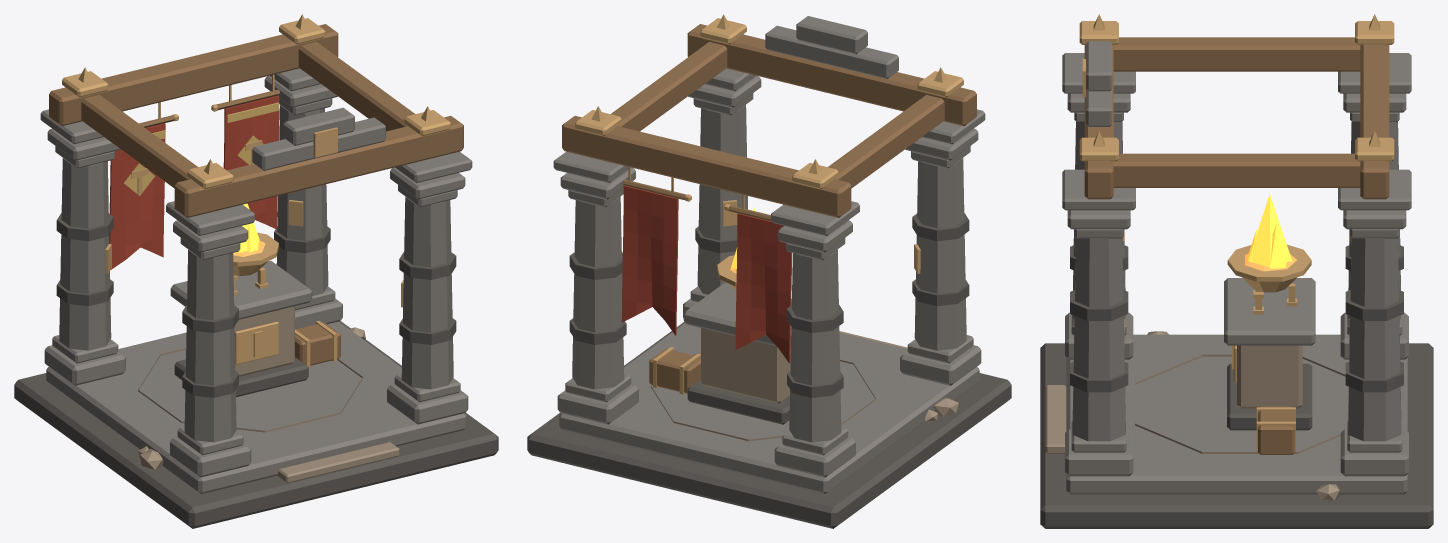
Rendered from temple.glb.
3 views of the same model, side by side, from view 1: azimuth 30°, elevation 25°; view 2: azimuth 150°, elevation 25°; view 3: azimuth 270°, elevation 25° (orthographic). The views are drawn at different scales.
Parts seen in each view (by area): view 1: platform_floor, platform_base, pillar_fl, pillar_fr, pillar_bl, beam_front, beam_back, pillar_br, banner_cloth_l, pediment_front, beam_left, beam_right (+19 smaller); view 2: platform_floor, platform_base, pillar_bl, pillar_br, pillar_fl, beam_back, beam_front, pillar_fr, banner_cloth_r, banner_cloth_l, altar_body, pediment_front (+13 smaller); view 3: platform_floor, platform_base, pillar_br, pillar_fr, beam_left, beam_right, altar_top, altar_body, pillar_bl, beam_back, pillar_fl, pediment_front (+14 smaller).
Boxes of the visible parts, bbox=[...] form: platform_floor: bbox=[46, 321, 466, 493]; platform_base: bbox=[14, 321, 498, 528]; pillar_fl: bbox=[166, 201, 254, 477]; pillar_fr: bbox=[387, 151, 472, 424]; pillar_bl: bbox=[40, 109, 125, 385]; beam_front: bbox=[174, 116, 463, 217]; beam_back: bbox=[49, 24, 338, 126]; pillar_br: bbox=[264, 68, 342, 329]; banner_cloth_l: bbox=[109, 123, 165, 269]; pediment_front: bbox=[252, 107, 385, 170]; beam_left: bbox=[81, 95, 197, 188]; beam_right: bbox=[298, 42, 415, 131]; platform_floor: bbox=[559, 323, 979, 493]; platform_base: bbox=[527, 321, 1011, 528]; pillar_bl: bbox=[771, 201, 859, 477]; pillar_br: bbox=[553, 151, 638, 424]; pillar_fl: bbox=[900, 109, 985, 385]; beam_back: bbox=[562, 116, 851, 217]; beam_front: bbox=[687, 24, 976, 126]; pillar_fr: bbox=[683, 68, 761, 317]; banner_cloth_r: bbox=[621, 185, 678, 335]; banner_cloth_l: bbox=[735, 213, 791, 363]; altar_body: bbox=[701, 328, 790, 403]; pediment_front: bbox=[765, 16, 898, 78]; platform_floor: bbox=[1066, 334, 1407, 494]; platform_base: bbox=[1040, 343, 1433, 528]; pillar_br: bbox=[1338, 169, 1411, 476]; pillar_fr: bbox=[1062, 169, 1135, 476]; beam_left: bbox=[1113, 37, 1360, 71]; beam_right: bbox=[1113, 153, 1360, 187]; altar_top: bbox=[1224, 278, 1315, 345]; altar_body: bbox=[1237, 345, 1302, 408]; pillar_bl: bbox=[1338, 53, 1411, 359]; beam_back: bbox=[1360, 44, 1389, 199]; pillar_fl: bbox=[1062, 53, 1135, 359]; pediment_front: bbox=[1086, 41, 1112, 126].
Size of what is drawn, in the model's own units: 3 by 3.29 by 3.
